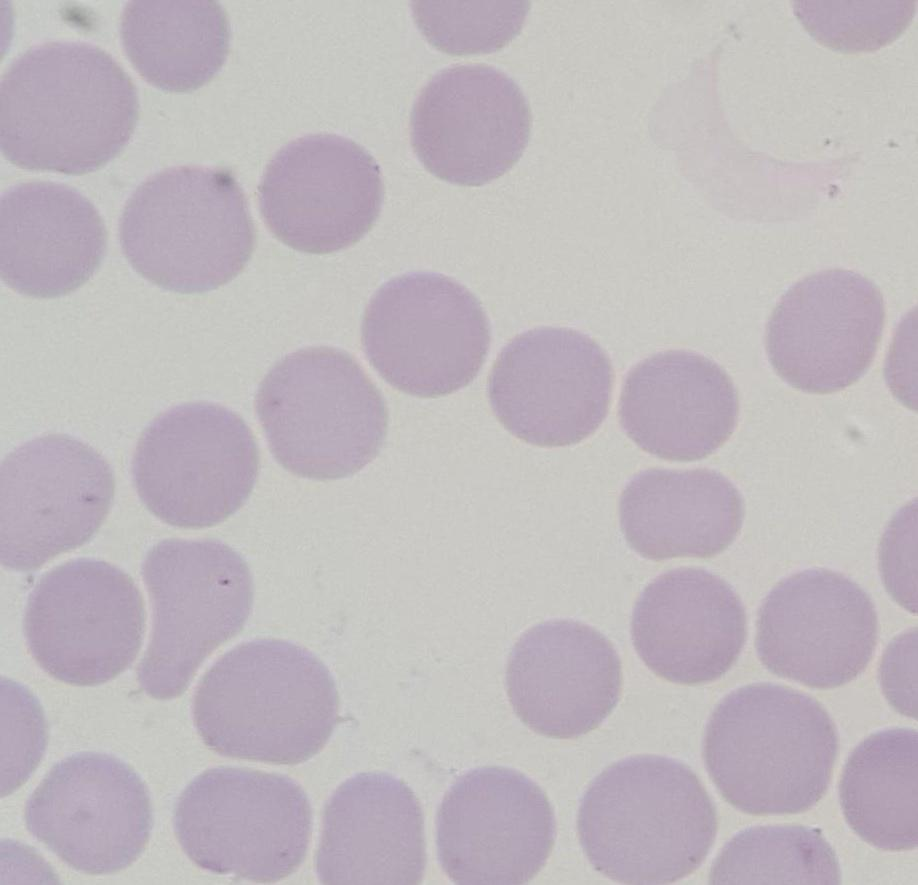Uninfected: (132, 537, 256, 701), (192, 638, 339, 767), (1, 42, 138, 175), (702, 683, 836, 816), (578, 755, 717, 883), (119, 164, 255, 292), (257, 347, 389, 478), (358, 273, 493, 398), (174, 765, 314, 884), (131, 401, 261, 529), (23, 556, 148, 689), (27, 751, 155, 874), (259, 133, 387, 254), (765, 267, 886, 394), (0, 433, 112, 568), (488, 327, 615, 446), (754, 568, 875, 688), (409, 64, 530, 182), (505, 619, 623, 738), (629, 567, 748, 684), (435, 767, 554, 884), (618, 351, 739, 460), (313, 773, 427, 885), (0, 178, 106, 296), (619, 467, 741, 561), (121, 1, 229, 91)
